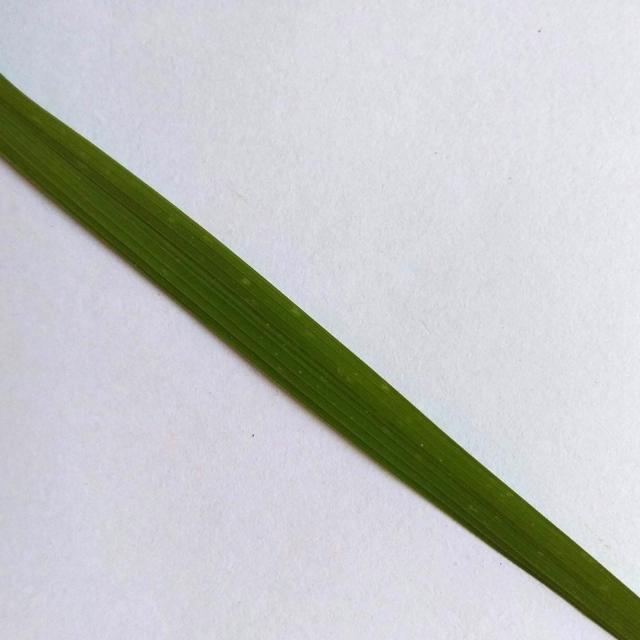healthy: (0, 42, 637, 640)
